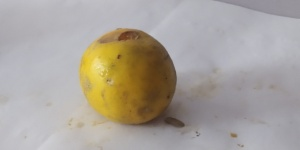BAD: (77, 29, 177, 128)
